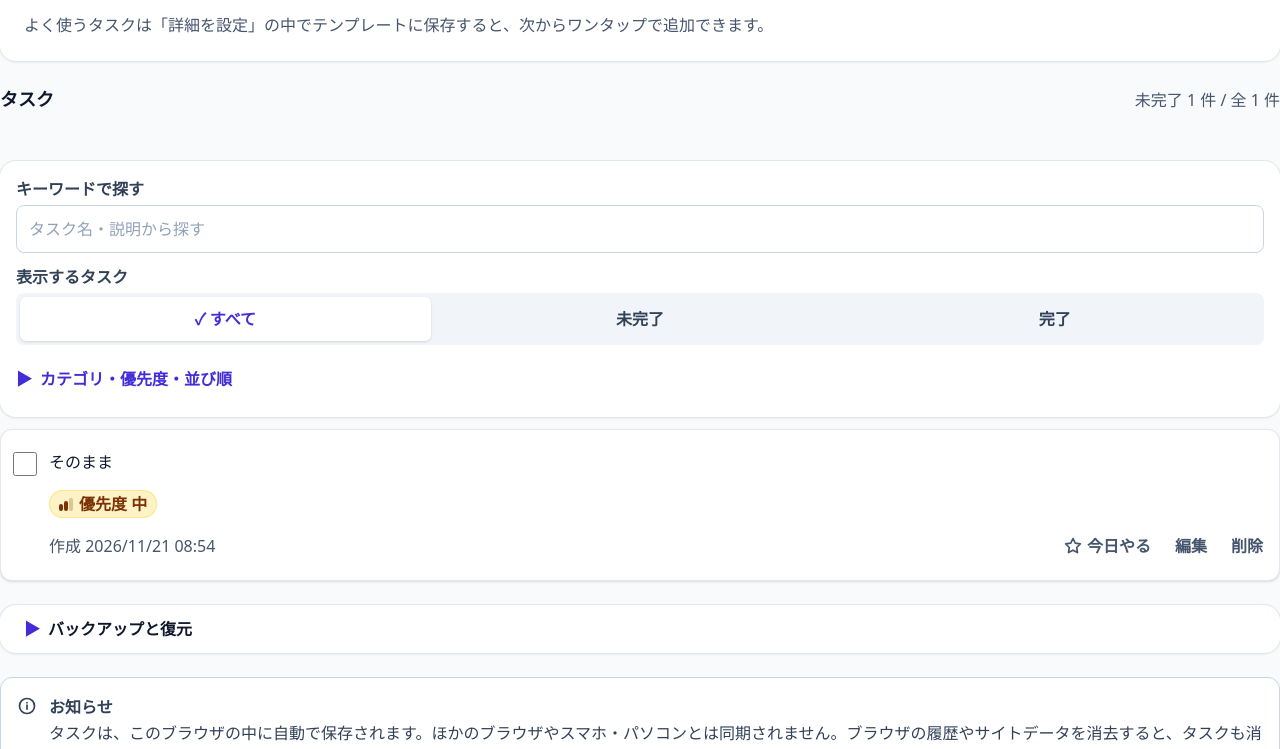
Test: タスクの詳細管理 › 編集はキャンセル（Escape キーでも）でき、内容は変わらない
This screenshot has width=1280, height=749.
(page scrolled)
Click the button with aria-label "「そのまま」を編集" at (1191, 546), box [1163,524,1219,568]
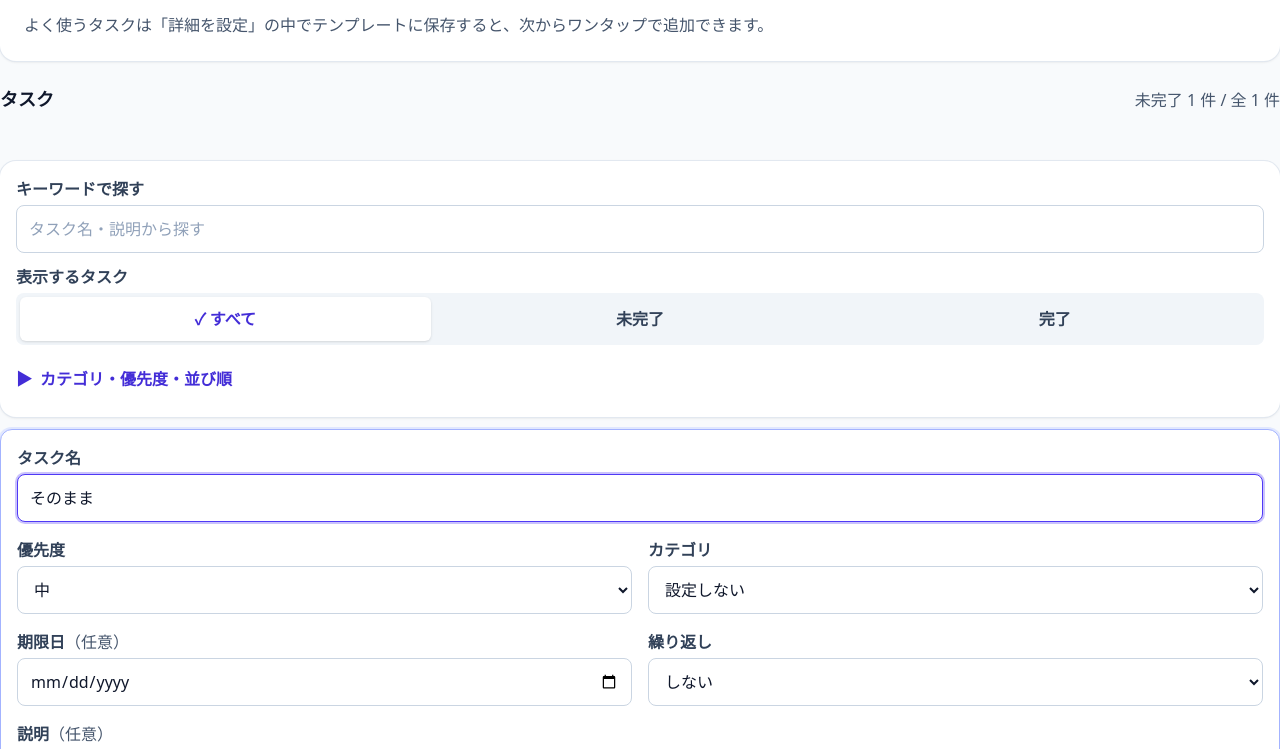
Type "追記" into the field labelled "タスク名" at (640, 498), box [17,474,1263,522]
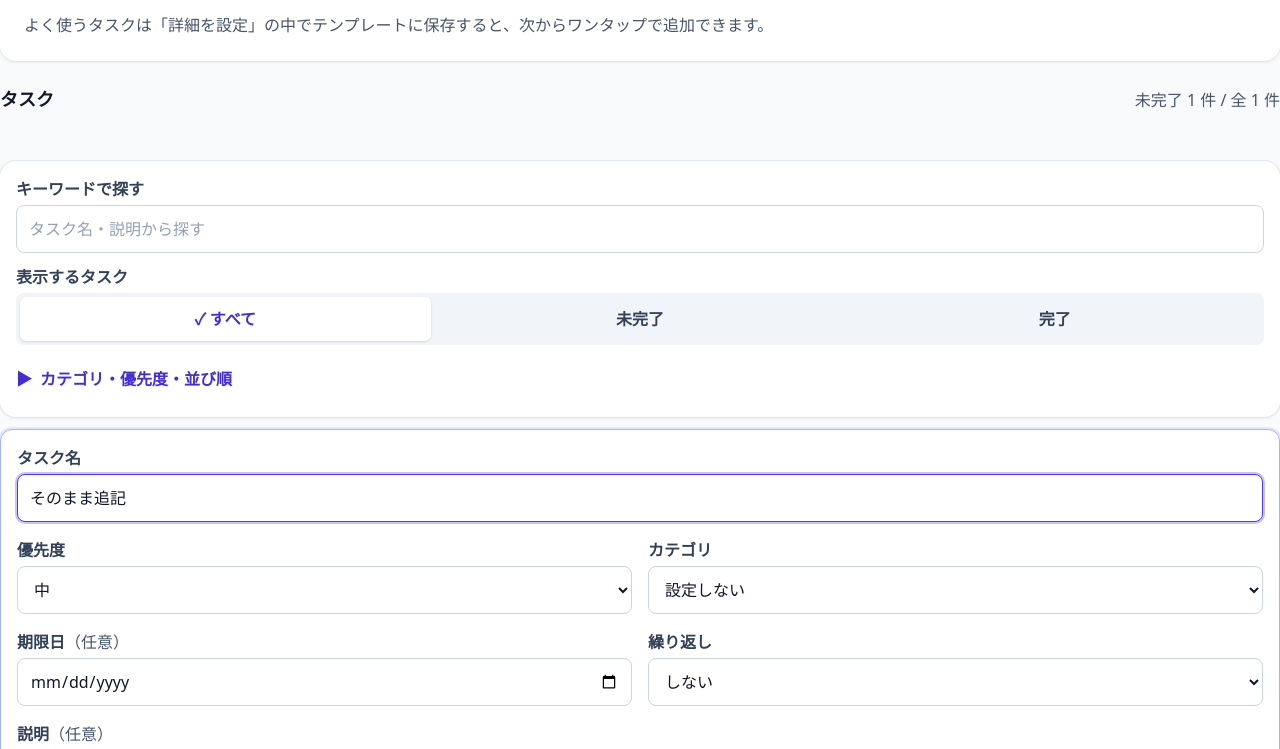
Press Escape
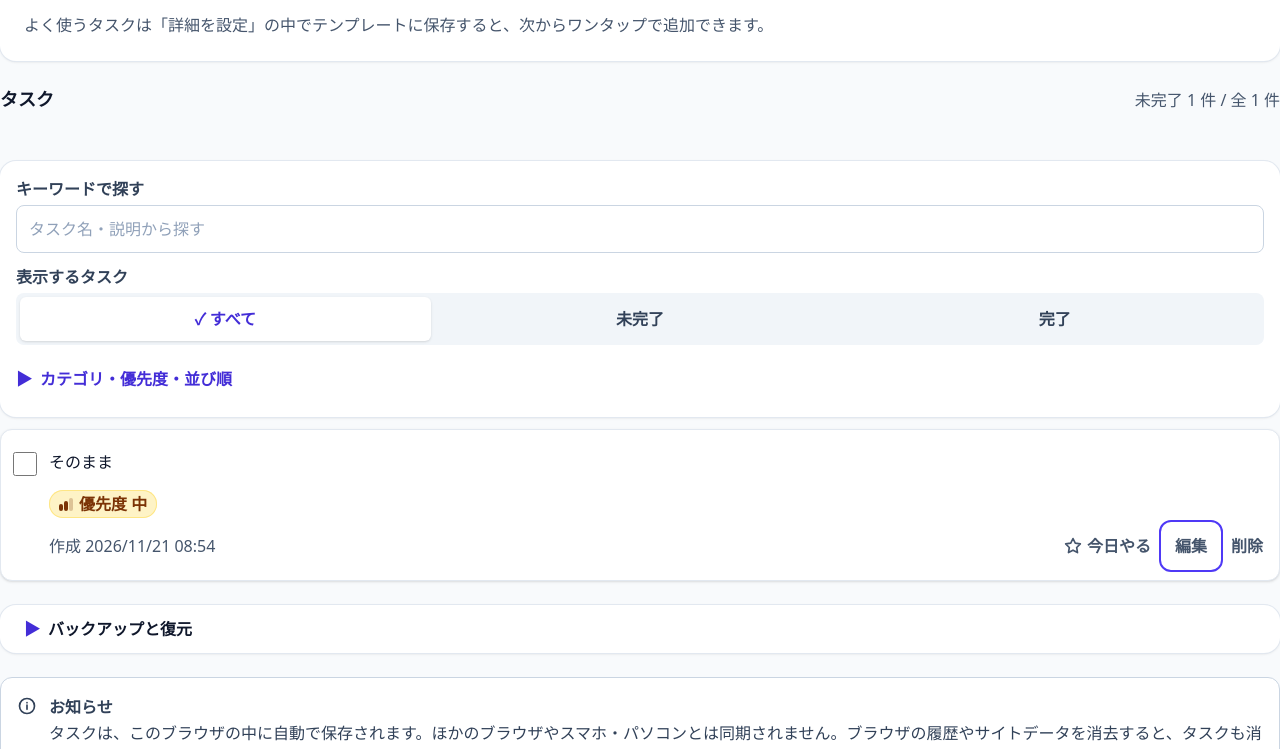
Expected: the text "そのまま" is shown, [49,450,113,474]
